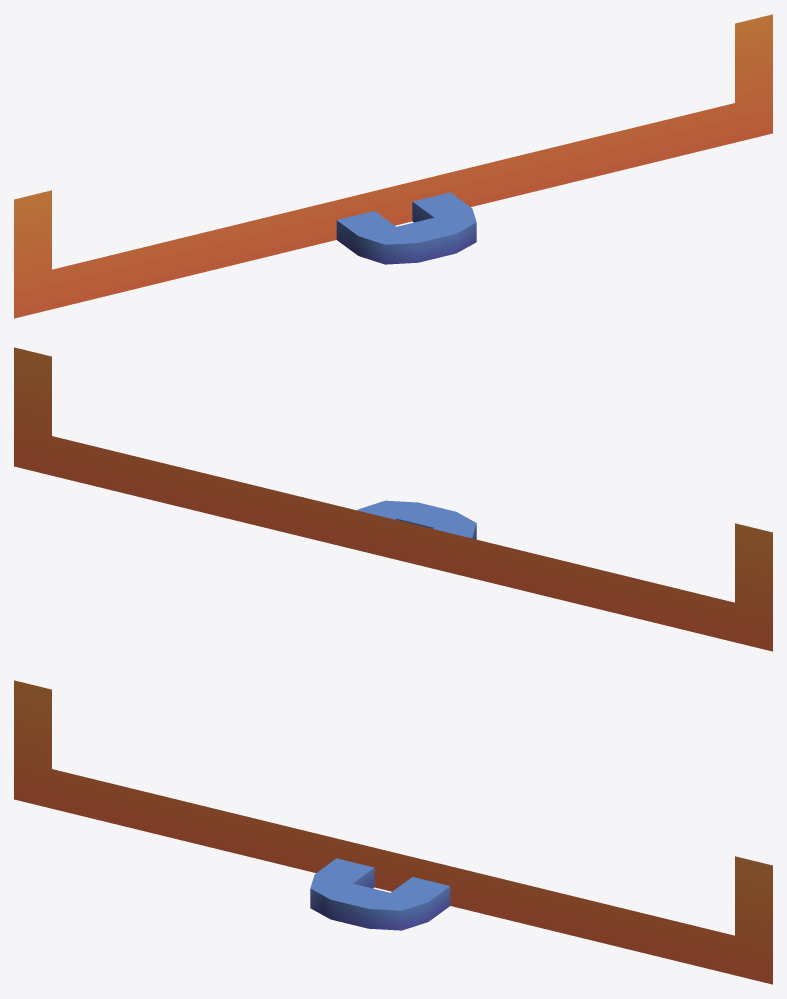
Rendered from track_wide_cap_back.glb.
The picture shows the model from 3 angles, top to bottom: view 1: azimuth 30°, elevation 25°; view 2: azimuth 150°, elevation 25°; view 3: azimuth 330°, elevation 25°; orthographic projection.
Visible parts, largest first — view 1: track-wide-cap-back; view 2: track-wide-cap-back; view 3: track-wide-cap-back.
Part boxes in pixels (x1,y1,x2,y2): track-wide-cap-back: [14, 14, 772, 318]; track-wide-cap-back: [14, 347, 772, 651]; track-wide-cap-back: [14, 680, 772, 984].
Bounding box in the file's own units: 2 × 0.3 × 0.2.
1 material, 1 textured.
